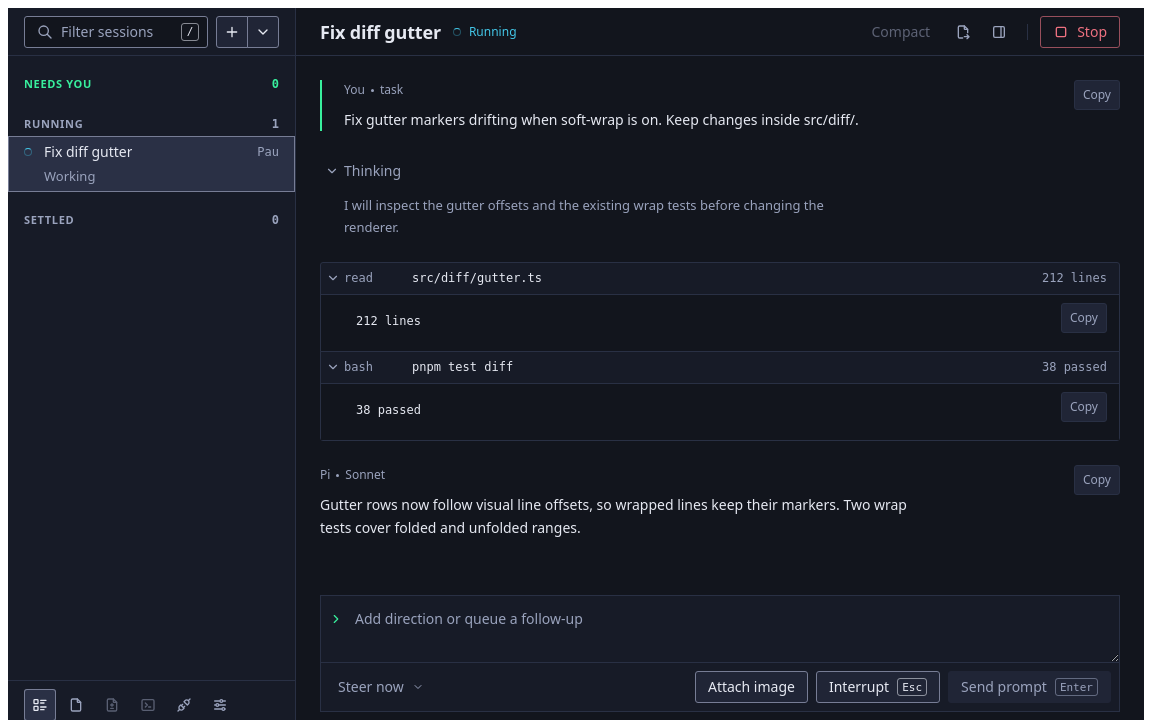
opens the @ completion list above the composer without moving the transcript
Type "@" into the text box named "Prompt" at (731, 629), box [343,596,1119,662]
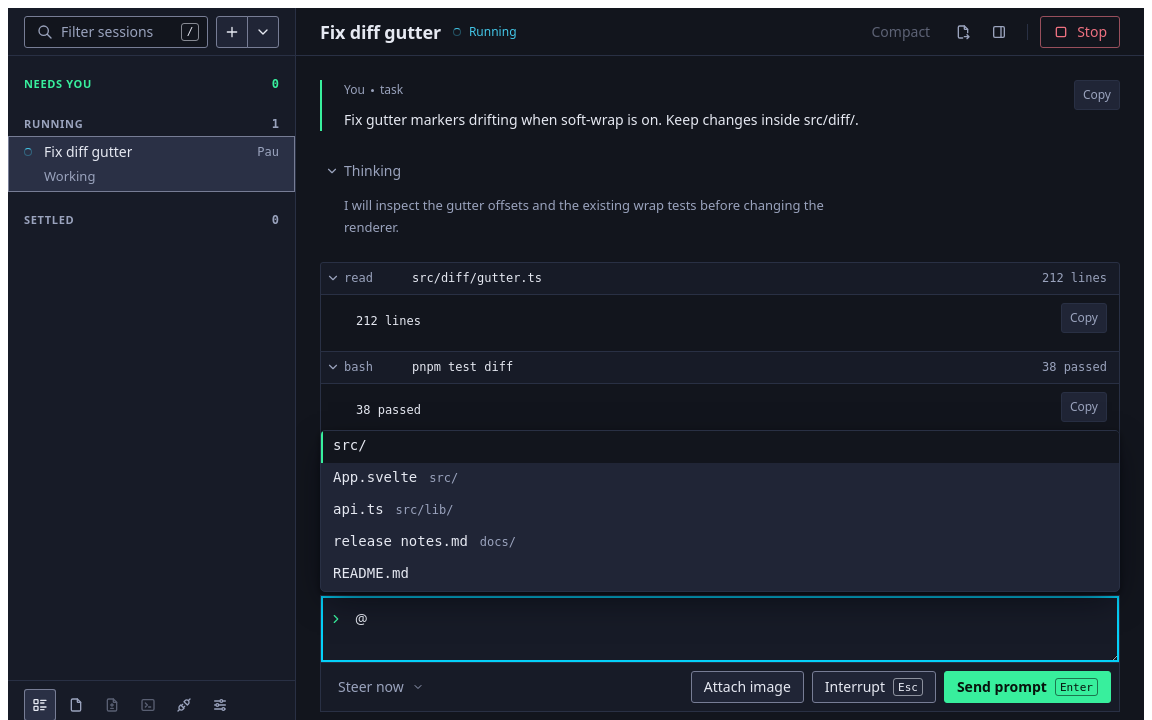
Result: the option "src/" is shown at [321,431,1119,463]
